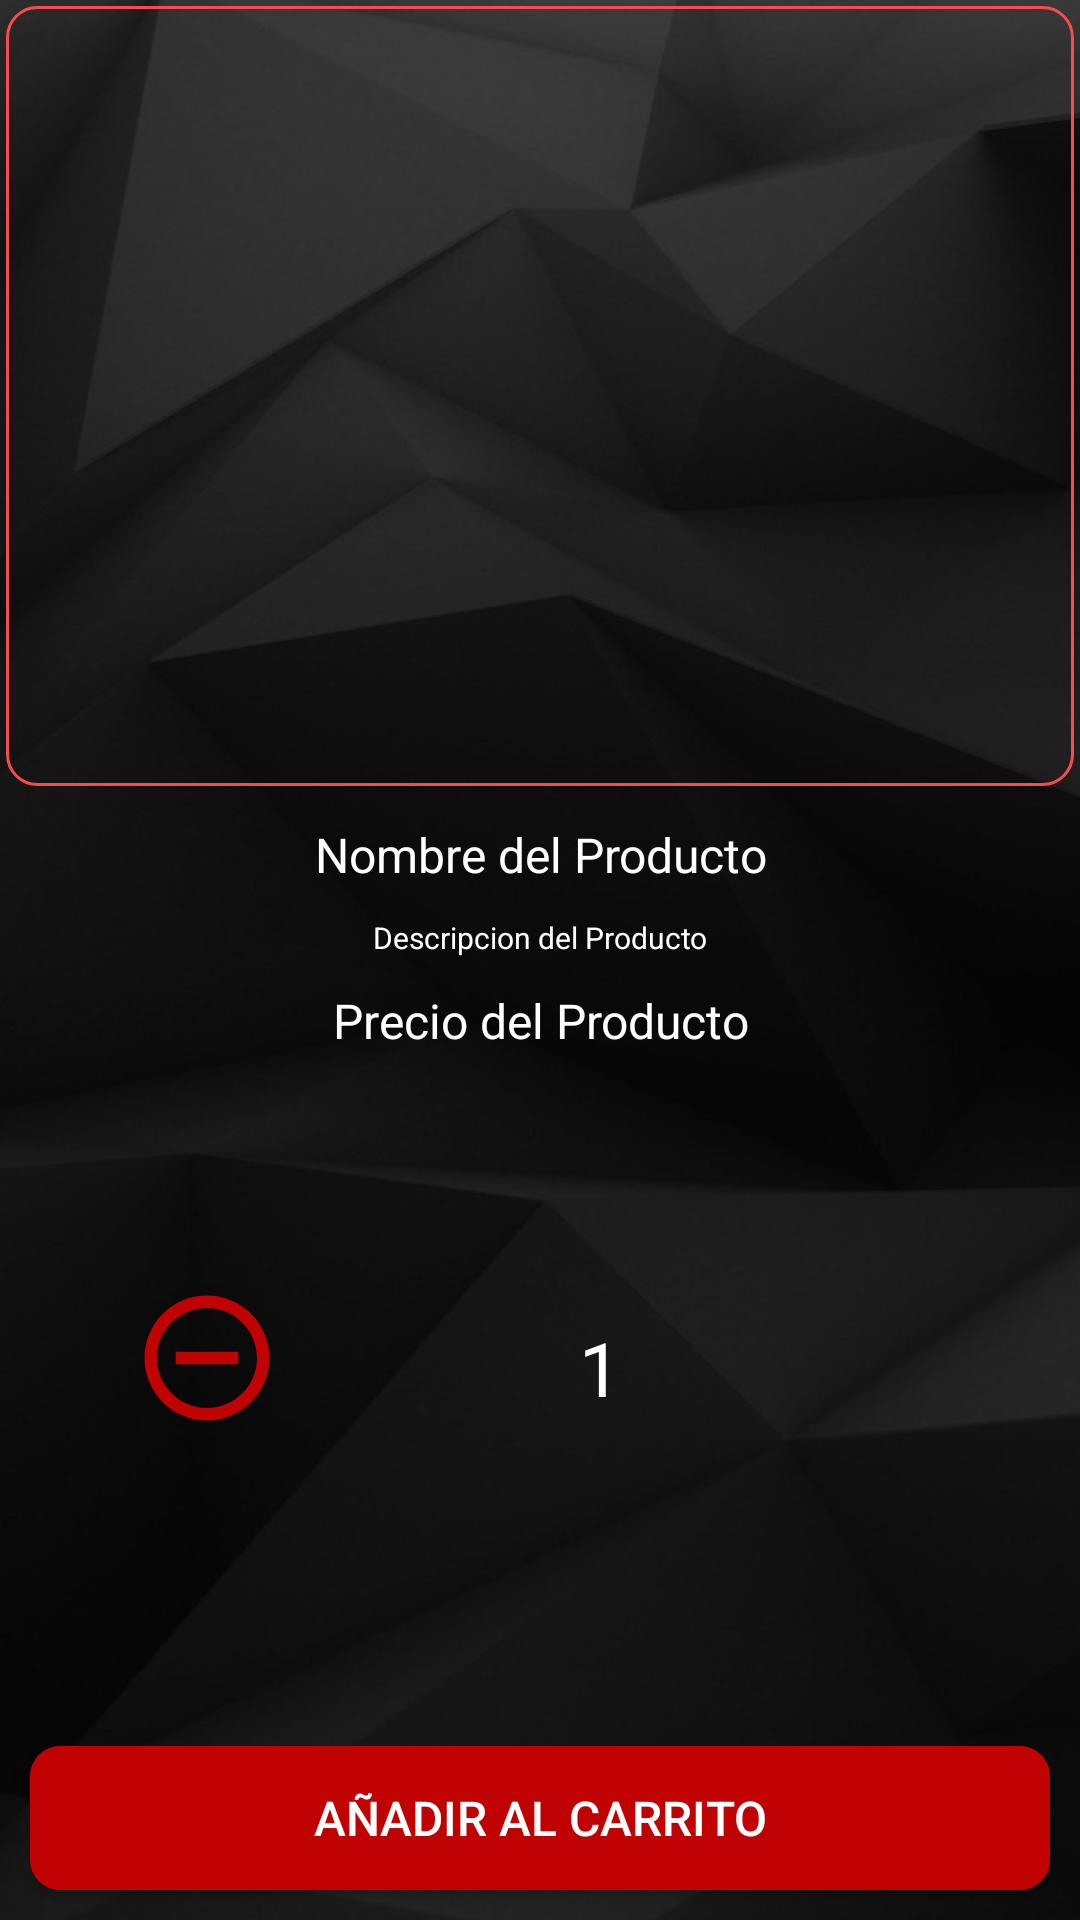

Screen size 1080px x 1920px. Icon name, then its center in pixels as (x=x, y=y):
remove circle: (x=207, y=1358)
